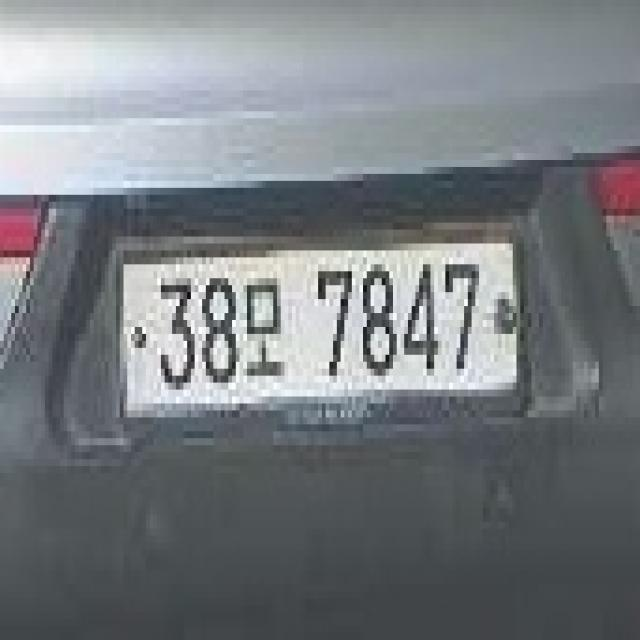3: (158, 271, 198, 390)
4: (401, 257, 442, 369)
7: (442, 257, 486, 376), (314, 258, 356, 382)
8: (360, 257, 400, 376), (202, 278, 243, 390)
license_plate: (116, 236, 524, 424)
mo: (240, 264, 288, 383)
